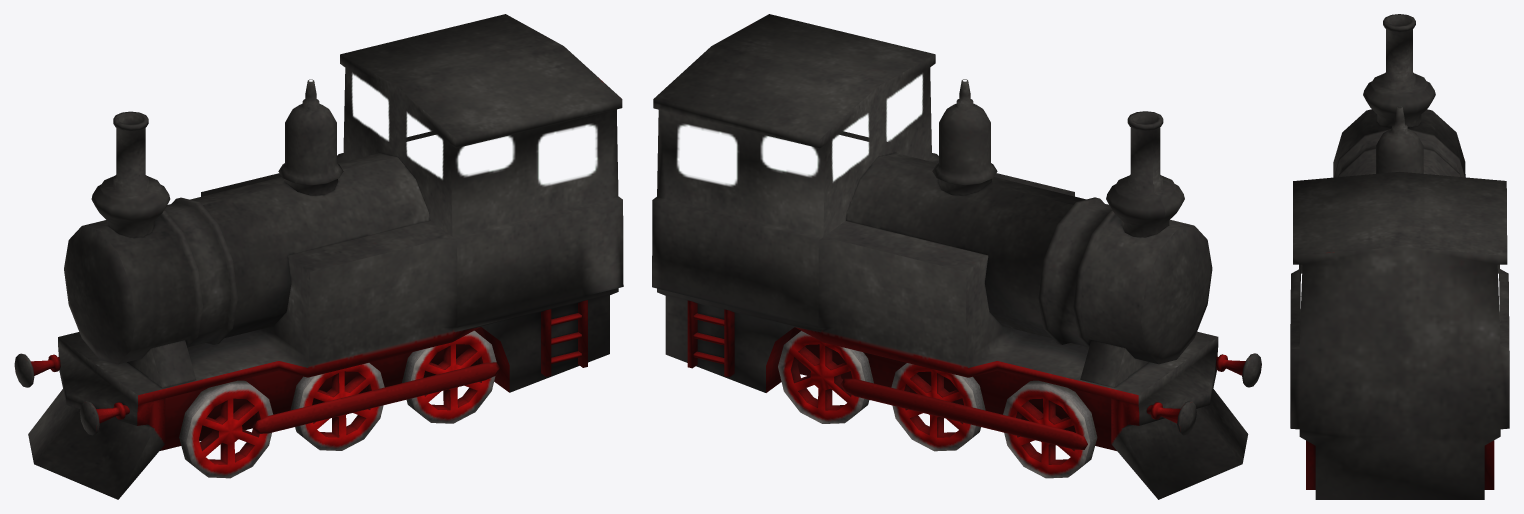
Rendered from stklib_steamengine.glb.
The picture shows the model from 3 angles, left to right: view 1: azimuth 30°, elevation 25°; view 2: azimuth 150°, elevation 25°; view 3: azimuth 270°, elevation 25°; orthographic projection. The views are drawn at different scales.
Parts seen in each view (by area): view 1: stklib_steamLocomotive_a.png__; view 2: stklib_steamLocomotive_a.png__; view 3: stklib_steamLocomotive_a.png__.
Boxes of the visible parts, x1,y1,x2,y2 form: stklib_steamLocomotive_a.png__: (14, 14, 623, 499); stklib_steamLocomotive_a.png__: (652, 14, 1261, 499); stklib_steamLocomotive_a.png__: (1290, 14, 1509, 499).
Bounding box in the file's own units: 5.71 × 3.54 × 2.22.
Materials: 1 (1 with a texture image).
